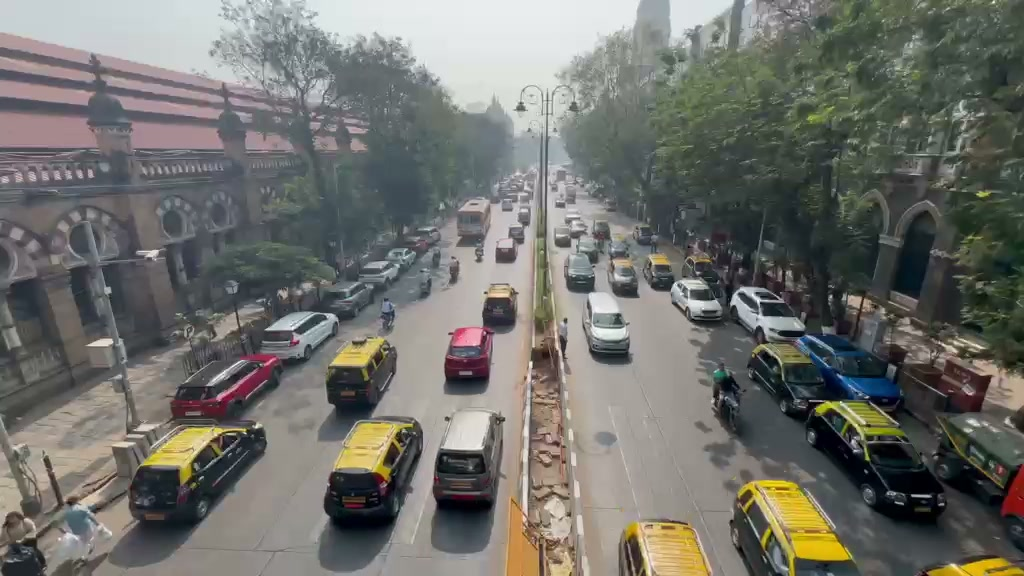bus: (457, 196, 492, 242)
car: (802, 398, 948, 522), (128, 421, 268, 525), (729, 478, 862, 576), (323, 416, 424, 525), (747, 340, 875, 420), (931, 410, 1024, 505), (795, 332, 905, 412), (169, 353, 282, 419), (431, 409, 505, 508), (30, 503, 115, 575), (616, 519, 716, 576), (325, 334, 399, 409), (730, 286, 807, 342), (257, 310, 339, 362), (582, 291, 632, 359), (443, 326, 494, 380), (669, 277, 726, 323), (317, 278, 375, 320), (999, 461, 1024, 554), (481, 282, 518, 332), (565, 253, 596, 291), (608, 260, 639, 296), (508, 225, 526, 243)
motorcycle: (713, 381, 743, 434)
pedestrian: (711, 358, 741, 411), (0, 511, 27, 545)
